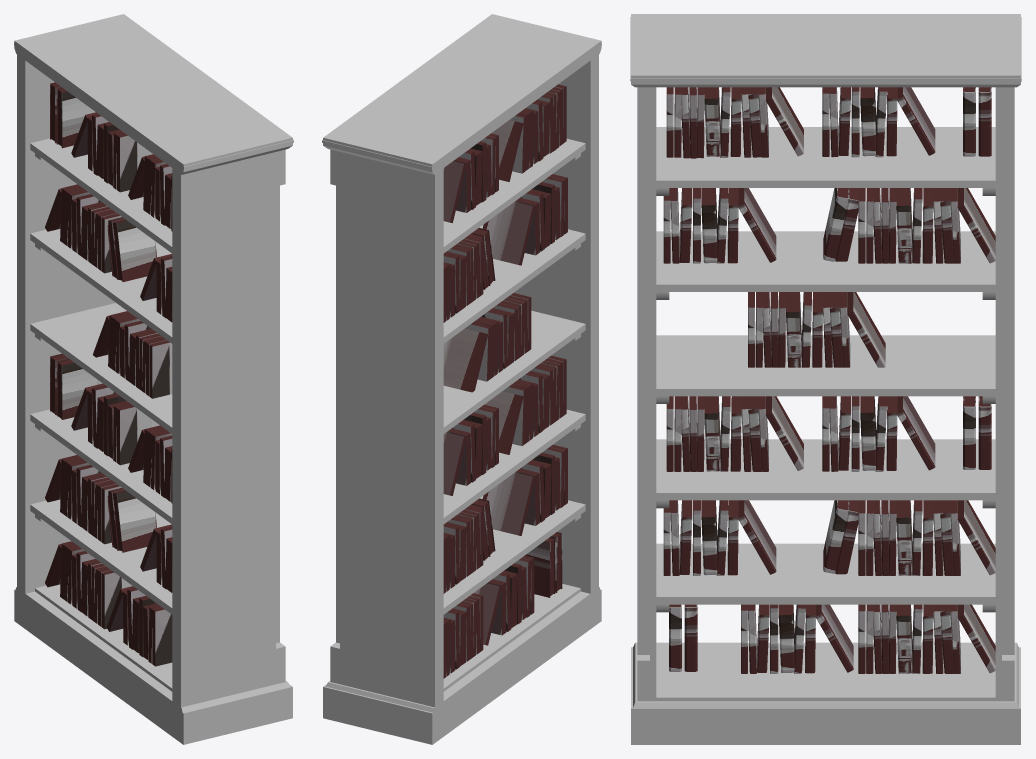
The model's file is Bookshelf.fbx.
3 views of the same model, side by side, from view 1: azimuth 30°, elevation 25°; view 2: azimuth 150°, elevation 25°; view 3: azimuth 270°, elevation 25° (orthographic). The views are drawn at different scales.
Parts seen in each view (by area): view 1: Bookshelf Tall, Stack Book-4.003, Stack Book-4, Stack Book-3.002, Stack Book-4.001, Stack Book-4.004, Stack Book-3.004, Stack Book-3, Stack Book-4.002, Stack Book-4.005, Stack Book-1.003, Stack Book-1.001 (+5 smaller); view 2: Bookshelf Tall, Stack Book-4.003, Stack Book-3.003, Stack Book-3.001, Stack Book-4.002, Stack Book-4.005, Stack Book-3.002, Stack Book-3.004, Stack Book-3, Stack Book-4.001, Stack Book-4.004, Stack Book-4 (+3 smaller); view 3: Bookshelf Tall, Stack Book-4.001, Stack Book-4.004, Stack Book-4.002, Stack Book-4.003, Stack Book-4.005, Stack Book-4, Stack Book-3.002, Stack Book-3.001, Stack Book-3.003, Stack Book-3.004, Stack Book-3 (+10 smaller).
Boxes of the visible parts, x1,y1,x2,y2 form: Bookshelf Tall: (14,14,293,744); Stack Book-4.003: (93,311,172,398); Stack Book-4: (45,541,132,629); Stack Book-3.002: (71,383,159,465); Stack Book-4.001: (45,455,121,544); Stack Book-4.004: (45,184,121,273); Stack Book-3.004: (71,112,152,192); Stack Book-3: (106,586,172,666); Stack Book-4.002: (128,425,172,503); Stack Book-4.005: (128,154,172,231); Stack Book-1.003: (111,218,156,281); Stack Book-1.001: (112,490,156,552); Bookshelf Tall: (322,14,601,744); Stack Book-4.003: (443,293,531,392); Stack Book-3.003: (482,174,567,265); Stack Book-3.001: (482,444,567,535); Stack Book-4.002: (484,355,566,454); Stack Book-4.005: (491,84,566,181); Stack Book-3.002: (443,404,498,495); Stack Book-3.004: (443,133,498,222); Stack Book-3: (473,555,534,645); Stack Book-4.001: (443,507,483,593); Stack Book-4.004: (443,236,483,322); Stack Book-4: (443,593,483,678); Bookshelf Tall: (630,14,1021,744); Stack Book-4.001: (858,500,995,575); Stack Book-4.004: (858,188,995,263); Stack Book-4.002: (666,396,803,471); Stack Book-4.003: (748,292,885,367); Stack Book-4.005: (666,87,803,158); Stack Book-4: (858,604,995,673); Stack Book-3.002: (822,396,935,471); Stack Book-3.001: (663,500,776,575); Stack Book-3.003: (663,188,776,263); Stack Book-3.004: (822,87,935,157); Stack Book-3: (741,604,853,673).
Bounding box in the file's own units: 0.2815 × 0.7522 × 1.42.
